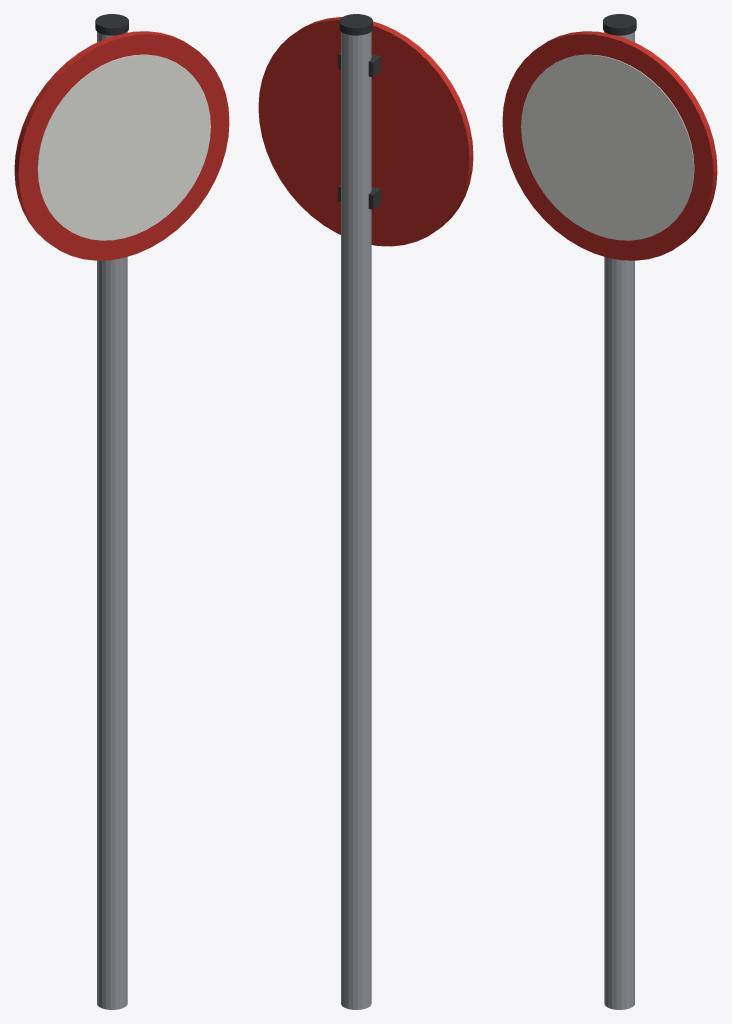
3 views of the same model, side by side, from view 1: azimuth 30°, elevation 25°; view 2: azimuth 150°, elevation 25°; view 3: azimuth 330°, elevation 25° (orthographic).
Parts seen in each view (by area): view 1: plateBottom=2;plateHeight=0.6;plateMaterial=sign_plate;plate (×4); view 2: plateBottom=2;plateHeight=0.6;plateMaterial=sign_plate;plate (×4); view 3: plateBottom=2;plateHeight=0.6;plateMaterial=sign_plate;plate (×4).
Boxes of the visible parts, bbox=[...] form: plateBottom=2;plateHeight=0.6;plateMaterial=sign_plate;plate (×4): bbox=[14, 14, 229, 1009]; plateBottom=2;plateHeight=0.6;plateMaterial=sign_plate;plate (×4): bbox=[258, 14, 473, 1009]; plateBottom=2;plateHeight=0.6;plateMaterial=sign_plate;plate (×4): bbox=[502, 14, 717, 1009].
Size of the model in its own units: 0.6 by 0.1018 by 2.67.
